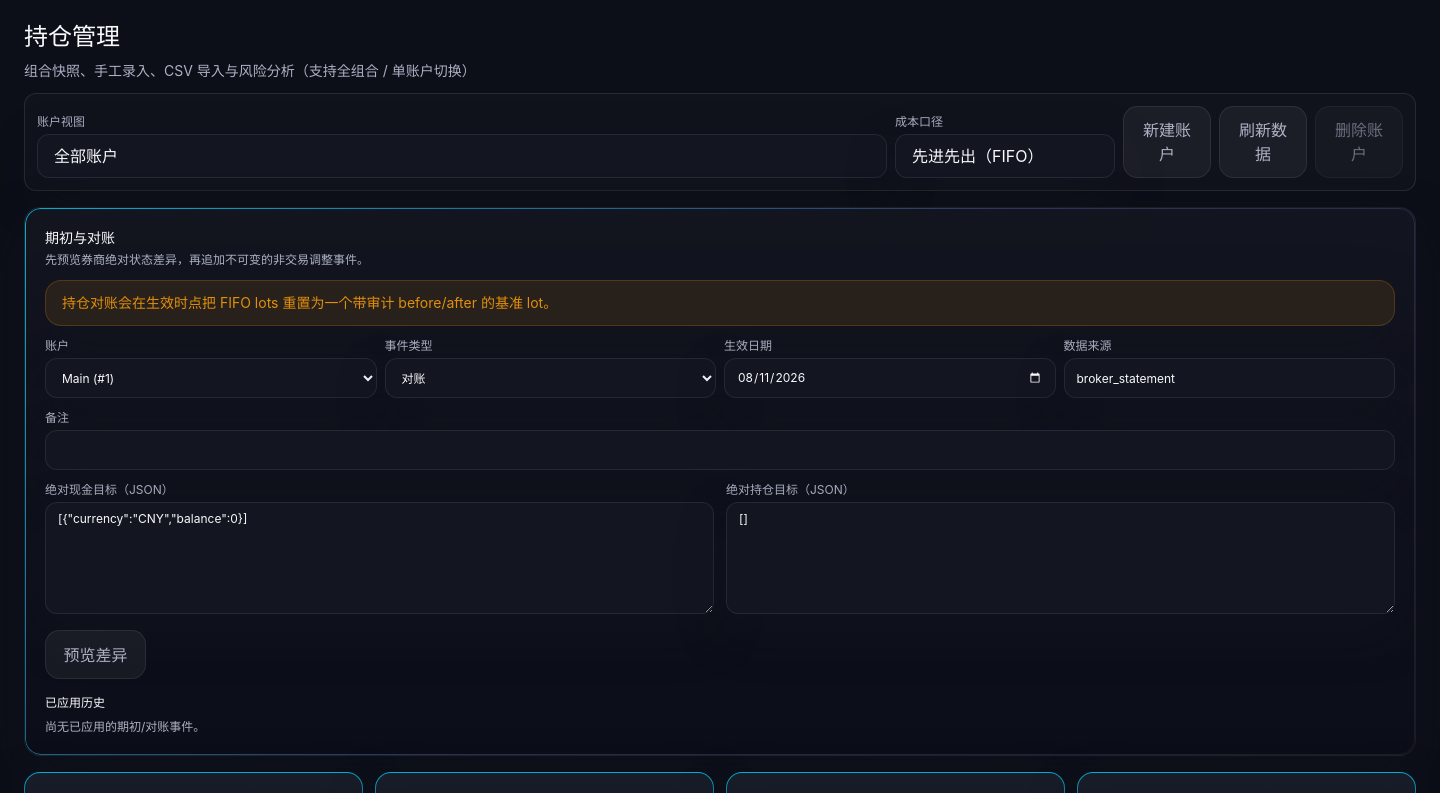
Test case: PortfolioPage FX refresh › refreshes holding signals when manually refreshing unchanged portfolio data
Click the button "刷新数据".
click(1263, 142)  # box top-left (1219, 106), bottom-right (1307, 178)
(page scrolled)
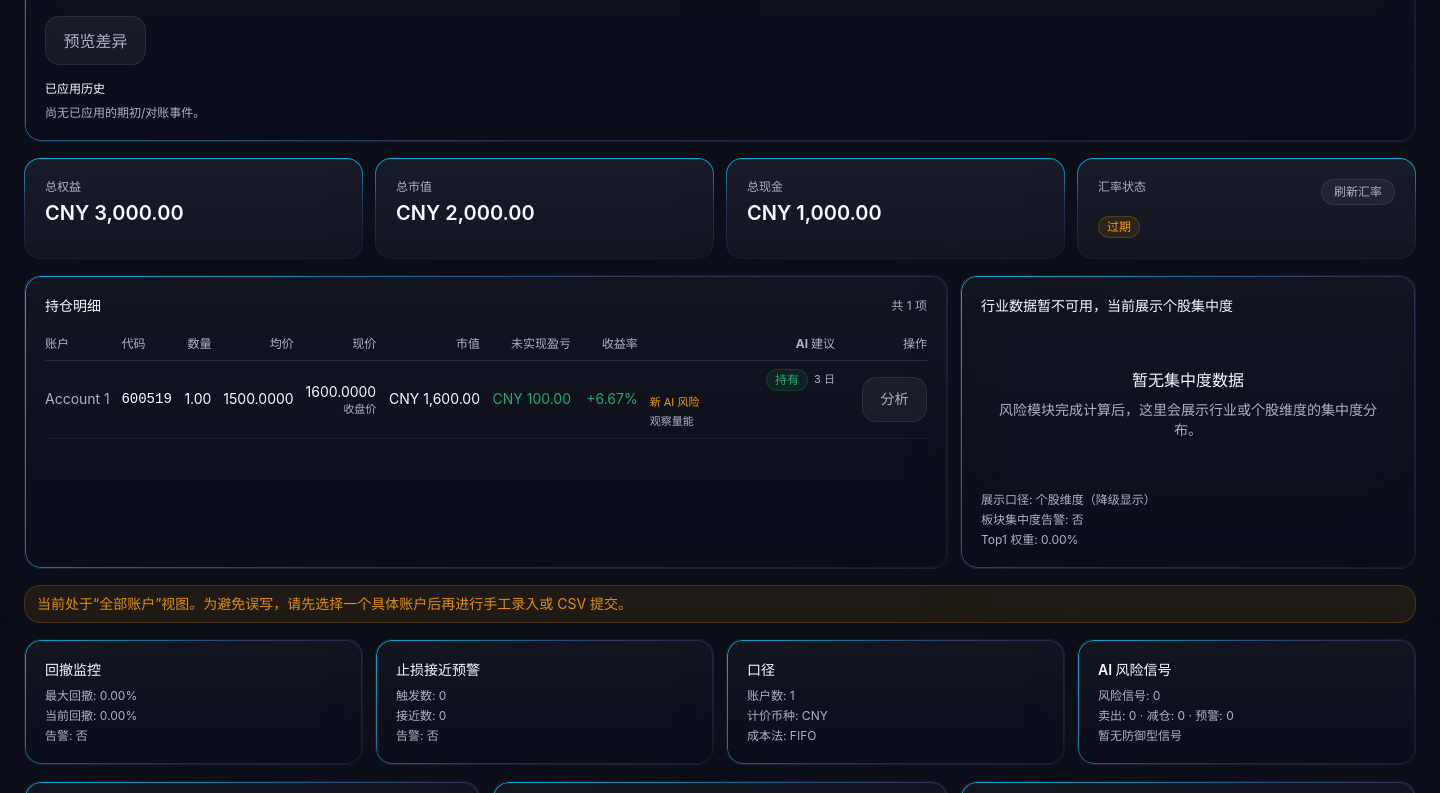
Expected: the text "新 AI 风险" is shown, top-left (650, 395), bottom-right (699, 409)
